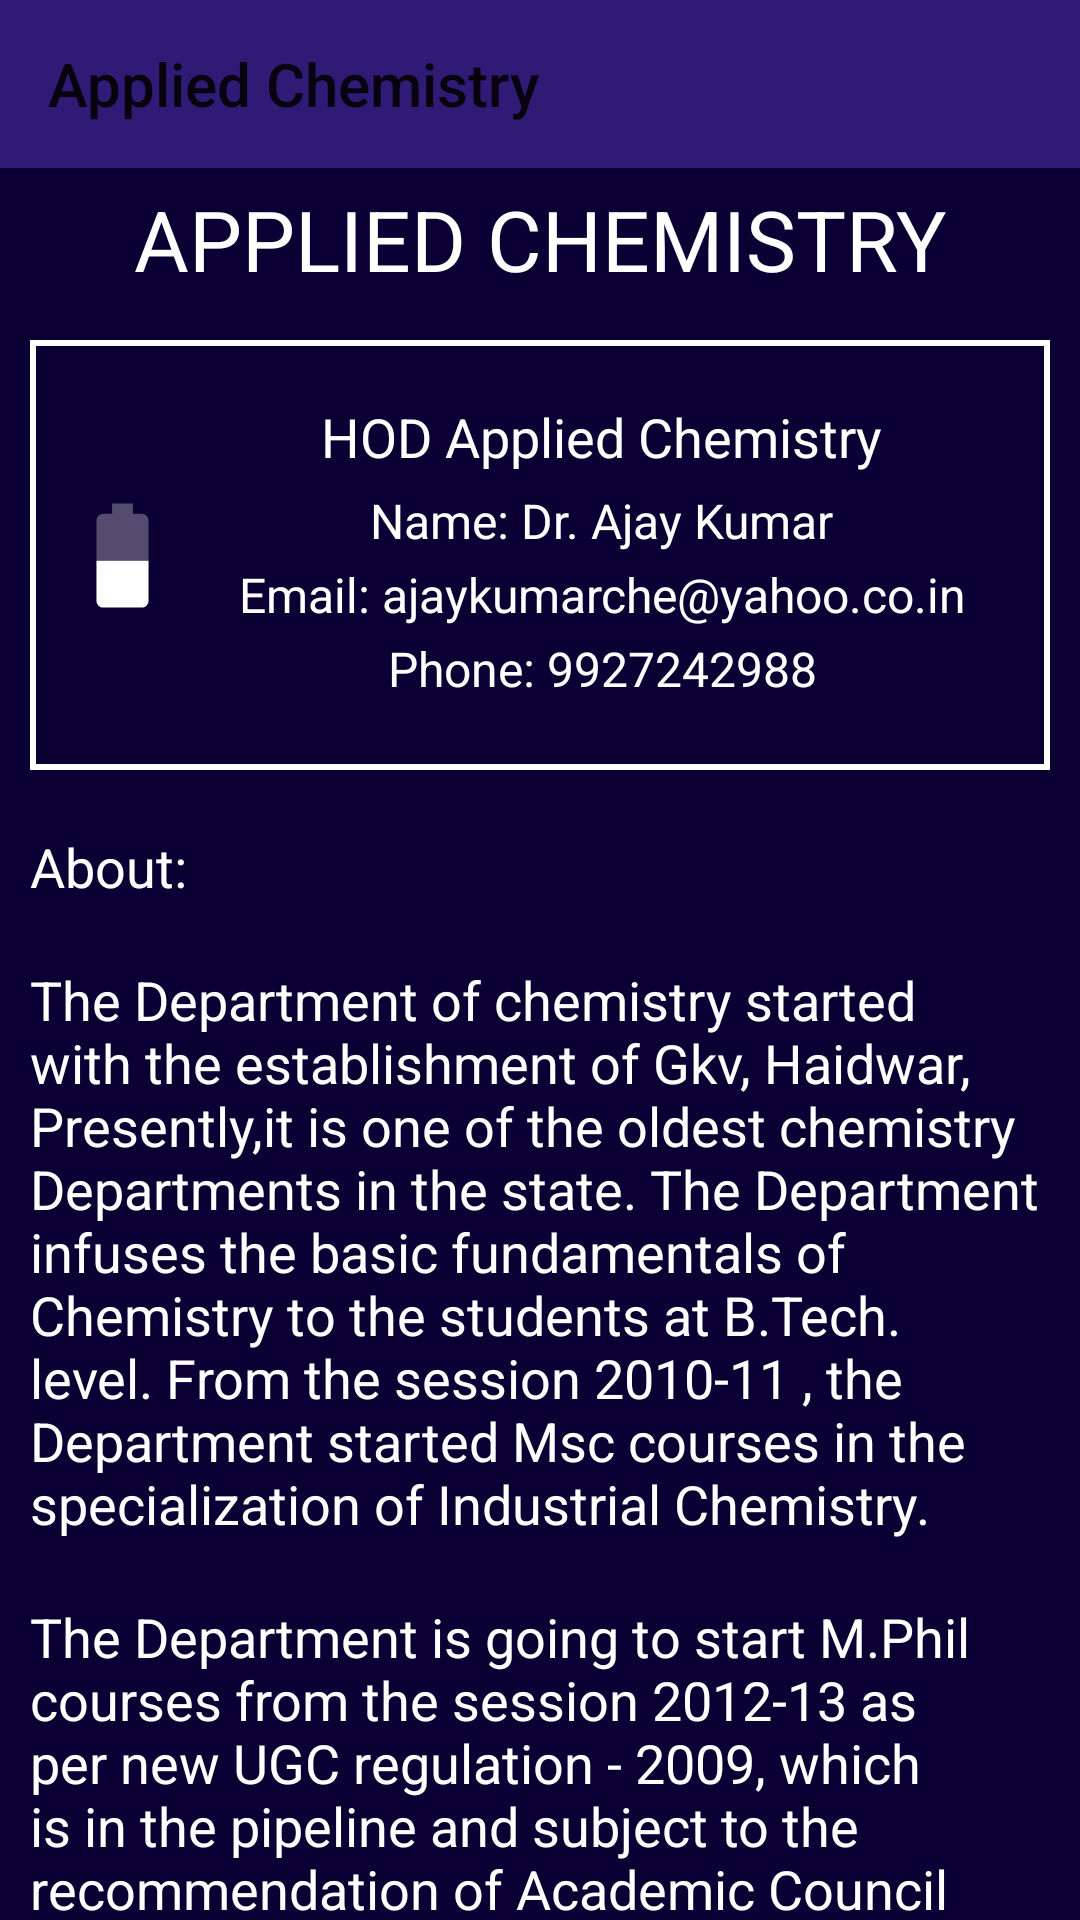

Icons on this 1080*1920 Android screen, each with the point to tap as [x,y]:
battery: [122,555]
